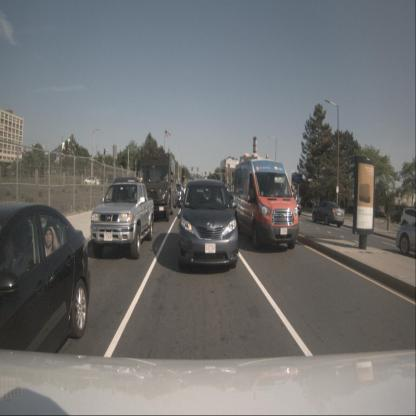vehicle-car: (0, 203, 89, 401), (234, 159, 299, 249), (178, 178, 238, 269), (312, 200, 344, 228), (274, 195, 302, 221), (395, 222, 416, 255), (400, 206, 415, 231), (172, 183, 184, 208), (390, 210, 409, 224), (370, 206, 386, 219), (83, 176, 100, 187)
vehicle-truck: (90, 176, 154, 260), (137, 152, 175, 221)
